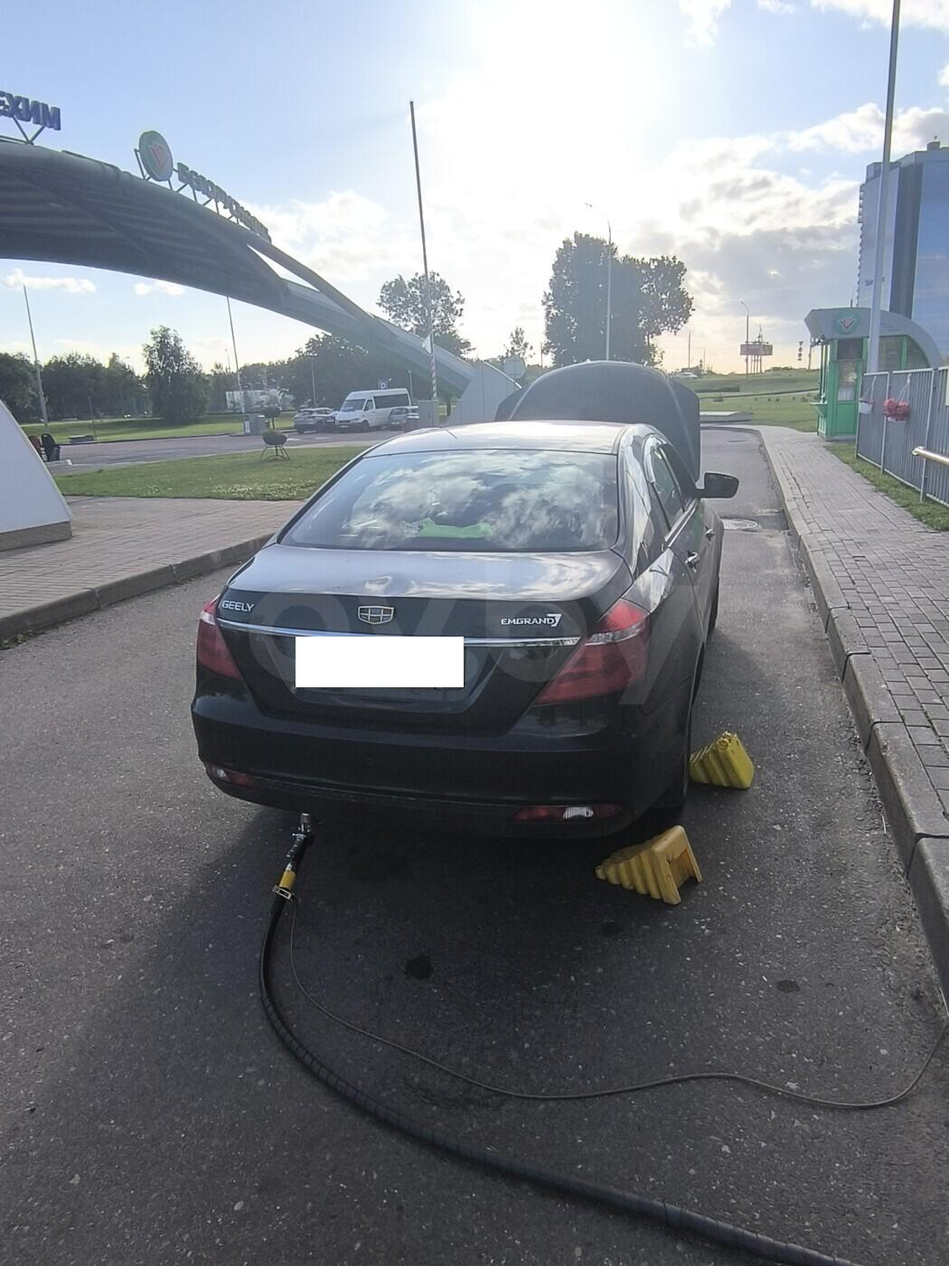Emgrand_2019-2021: (191, 389, 738, 837)
